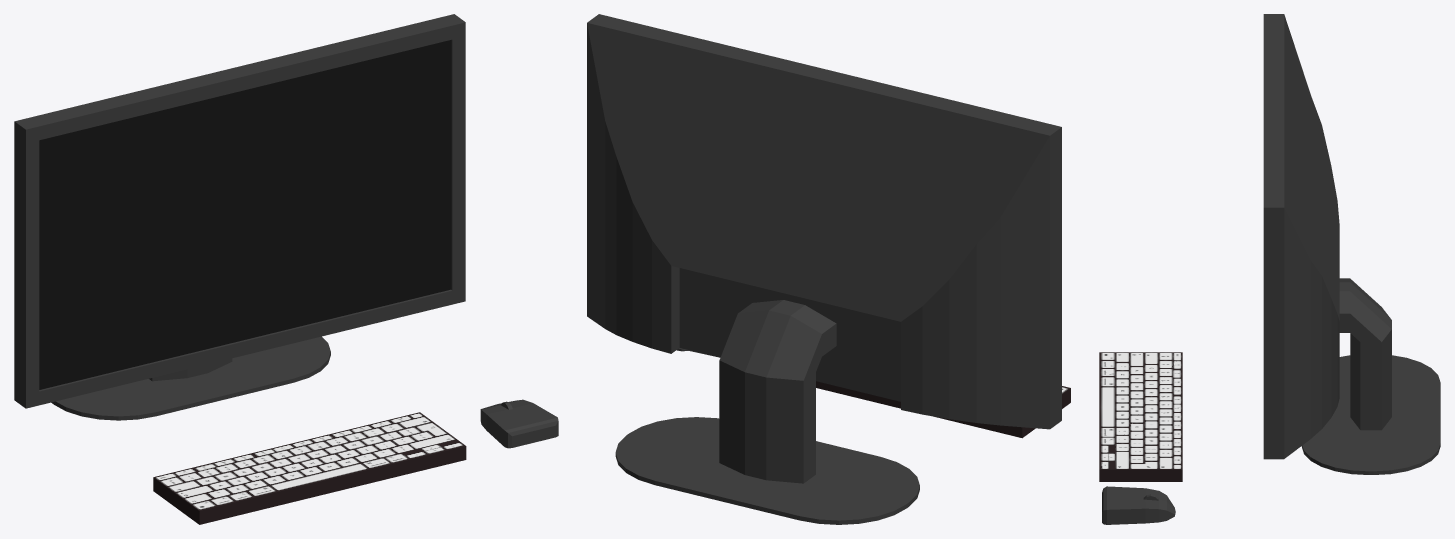
The model's file is Desktop_LP.fbx.
The picture shows the model from 3 angles, left to right: view 1: azimuth 30°, elevation 25°; view 2: azimuth 150°, elevation 25°; view 3: azimuth 270°, elevation 25°; orthographic projection. The views are drawn at different scales.
Parts seen in each view (by area): view 1: Monitor, Keyboard, Mouse; view 2: Monitor, Keyboard; view 3: Monitor, Keyboard, Mouse.
Boxes of the visible parts, box(x1,y1,x2,y2) form: Monitor: box(14, 14, 465, 420); Keyboard: box(153, 412, 466, 524); Mouse: box(480, 399, 558, 448); Monitor: box(587, 14, 1061, 524); Keyboard: box(816, 381, 1070, 438); Monitor: box(1263, 14, 1440, 474); Keyboard: box(1099, 352, 1182, 481); Mouse: box(1102, 486, 1175, 524).
Bounding box in the file's own units: 334 × 246 × 251.
Materials: 4 (1 with a texture image).
